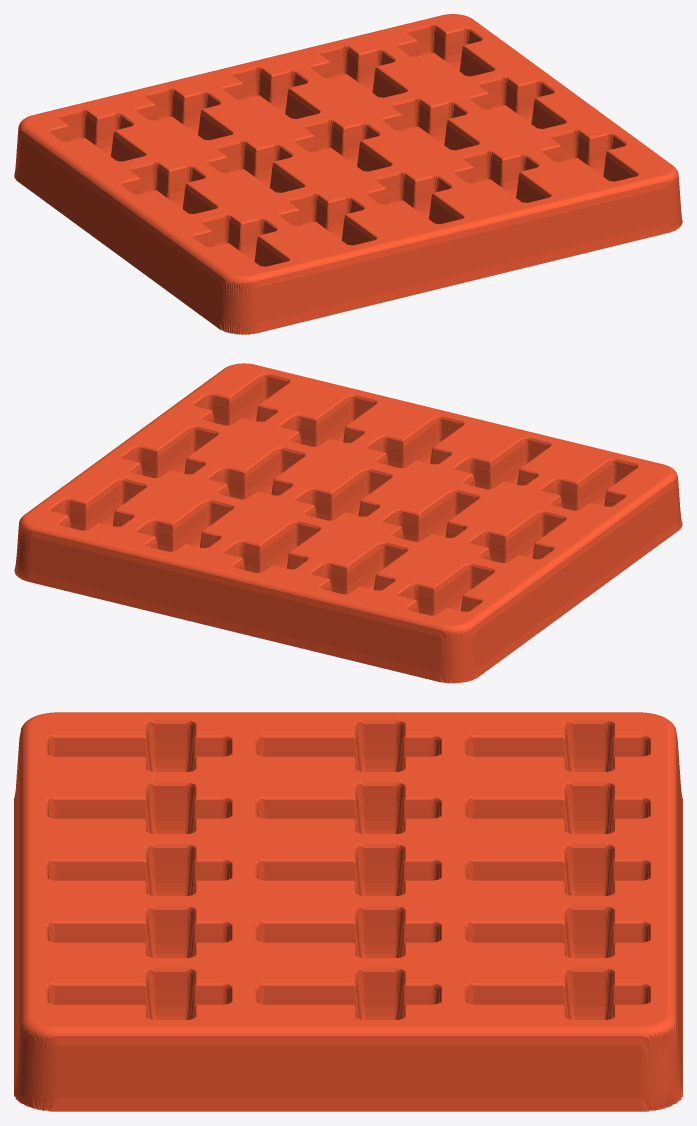
File: mold.glb
3 views of the same model, one above another, from view 1: azimuth 30°, elevation 25°; view 2: azimuth 150°, elevation 25°; view 3: azimuth 270°, elevation 25° (orthographic). The views are drawn at different scales.
Parts seen in each view (by area): view 1: geometry_0; view 2: geometry_0; view 3: geometry_0.
Part boxes in pixels (x1,y1,x2,y2): geometry_0: [14, 14, 682, 334]; geometry_0: [14, 363, 682, 683]; geometry_0: [14, 712, 682, 1111].
Bounding box in the file's own units: 0.1638 × 0.0182 × 0.1415.
